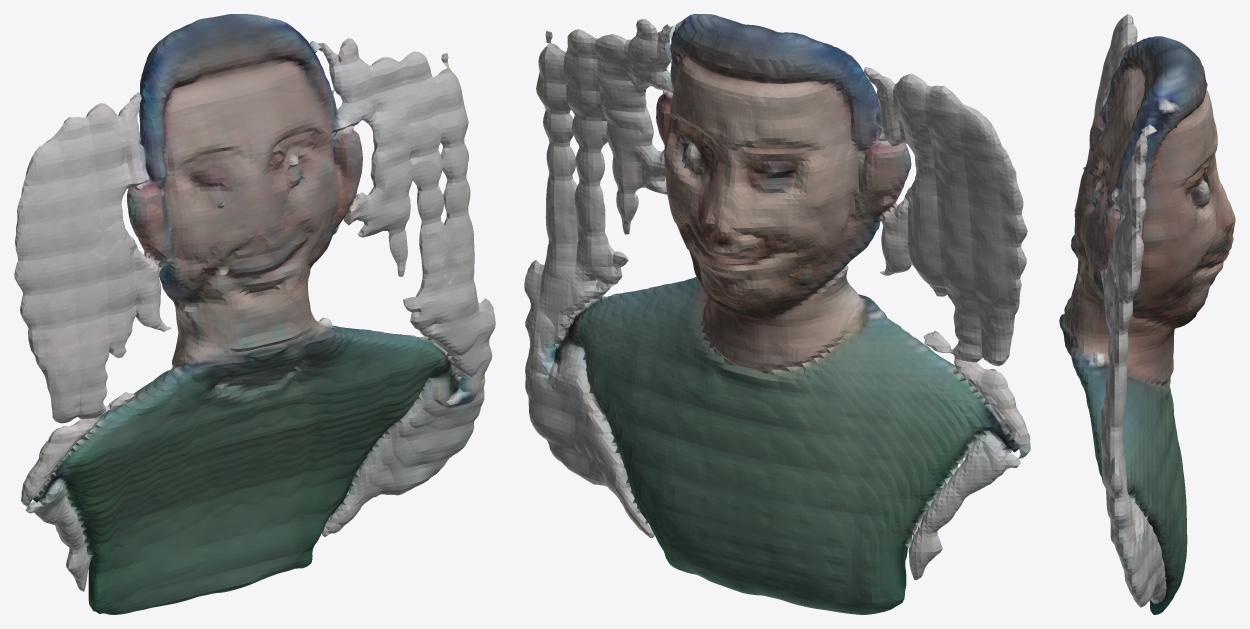
File: amr-tex.glb
3 views of the same model, side by side, from view 1: azimuth 30°, elevation 25°; view 2: azimuth 150°, elevation 25°; view 3: azimuth 270°, elevation 25° (orthographic). The views are drawn at different scales.
Visible parts, largest first — view 1: world; view 2: world; view 3: world.
Boxes of the visible parts, <box> form: world: <box>14,14,495,614</box>; world: <box>524,14,1030,614</box>; world: <box>1059,14,1235,614</box>.
Size of the model in its own units: 0.8215 by 0.9136 by 0.2759.
